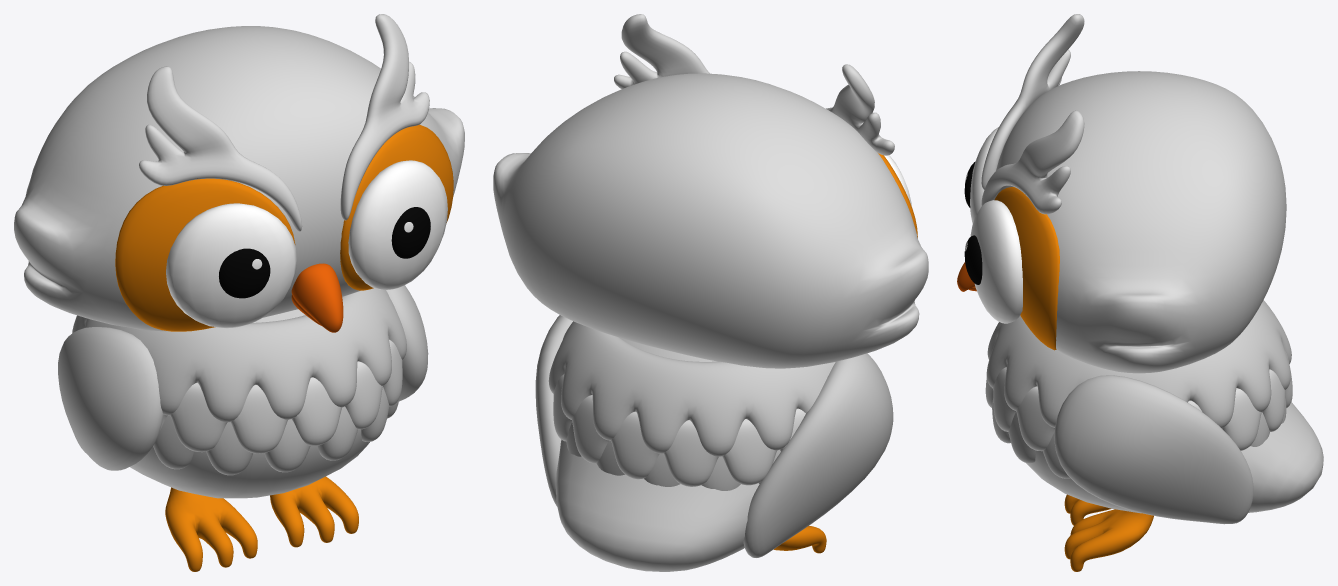
The model's file is Snowy_Owls.glb.
3 views of the same model, side by side, from view 1: azimuth 30°, elevation 25°; view 2: azimuth 150°, elevation 25°; view 3: azimuth 270°, elevation 25° (orthographic). The views are drawn at different scales.
Visible parts, largest first — view 1: Cube, Sphere, Cube.005, Circle.001, Plane, Circle, Cube.004, Vert.001, Cube.002, Cube.007, Cube.001; view 2: Cube, Cube.005, Plane, Cube.007, Cube.004, Circle.001, Cube.002, Vert.001; view 3: Cube, Plane, Cube.005, Circle.001, Cube.007, Sphere, Circle, Cube.004, Vert.001, Cube.002.
Boxes of the visible parts, x1,y1,x2,y2 form: Cube: [14, 26, 464, 331]; Sphere: [166, 160, 447, 328]; Cube.005: [72, 288, 406, 422]; Circle.001: [139, 14, 429, 231]; Plane: [58, 285, 428, 470]; Circle: [115, 124, 453, 331]; Cube.004: [160, 339, 402, 453]; Vert.001: [165, 476, 358, 571]; Cube.002: [153, 309, 399, 475]; Cube.007: [130, 429, 369, 498]; Cube.001: [291, 263, 343, 332]; Cube: [493, 73, 928, 368]; Cube.005: [548, 321, 835, 456]; Plane: [535, 315, 893, 557]; Cube.007: [555, 439, 759, 571]; Cube.004: [553, 374, 805, 486]; Circle.001: [614, 14, 894, 155]; Cube.002: [566, 338, 780, 490]; Vert.001: [774, 526, 826, 553]; Cube: [996, 71, 1286, 373]; Plane: [1054, 375, 1253, 524]; Cube.005: [986, 300, 1291, 428]; Circle.001: [981, 14, 1084, 214]; Cube.007: [1026, 402, 1323, 513]; Sphere: [964, 127, 1022, 323]; Circle: [994, 187, 1059, 350]; Cube.004: [985, 351, 1292, 451]; Vert.001: [1064, 494, 1153, 571]; Cube.002: [992, 398, 1286, 478].
Bounding box in the file's own units: 2.41 × 2.69 × 1.89.
